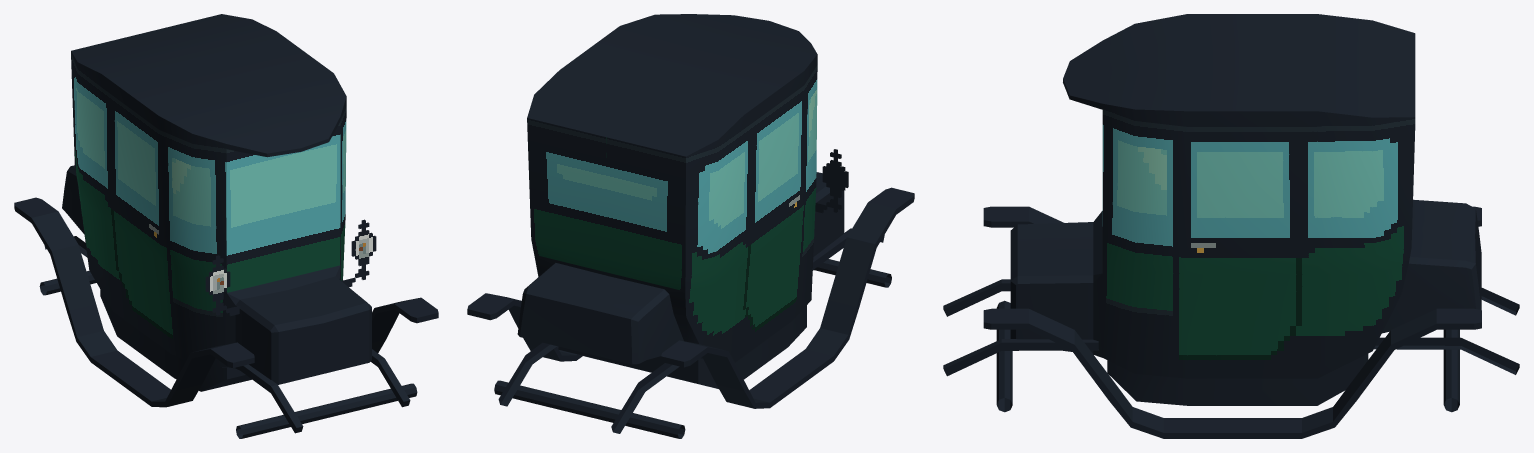
File: bakerElectric1909.glb
3 views of the same model, side by side, from view 1: azimuth 30°, elevation 25°; view 2: azimuth 150°, elevation 25°; view 3: azimuth 270°, elevation 25° (orthographic). The views are drawn at different scales.
Parts seen in each view (by area): view 1: Body; view 2: Body; view 3: Body.
Boxes of the visible parts, left/top/right/bottom form: Body: left=14, top=14, right=438, bottom=438; Body: left=467, top=14, right=914, bottom=438; Body: left=943, top=14, right=1519, bottom=438.
Size of the model in its own units: 1.5 by 1.9 by 3.12.
1 material, 1 textured.
